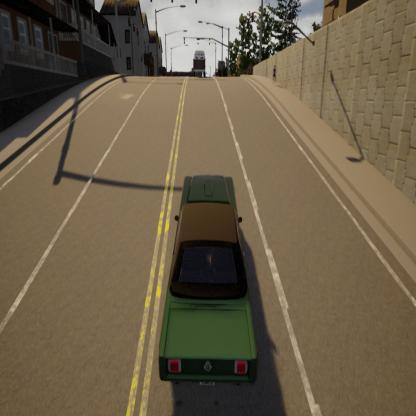Cars: (157, 169, 261, 393), (193, 51, 206, 79)
Pedestrian: (272, 62, 278, 86)
